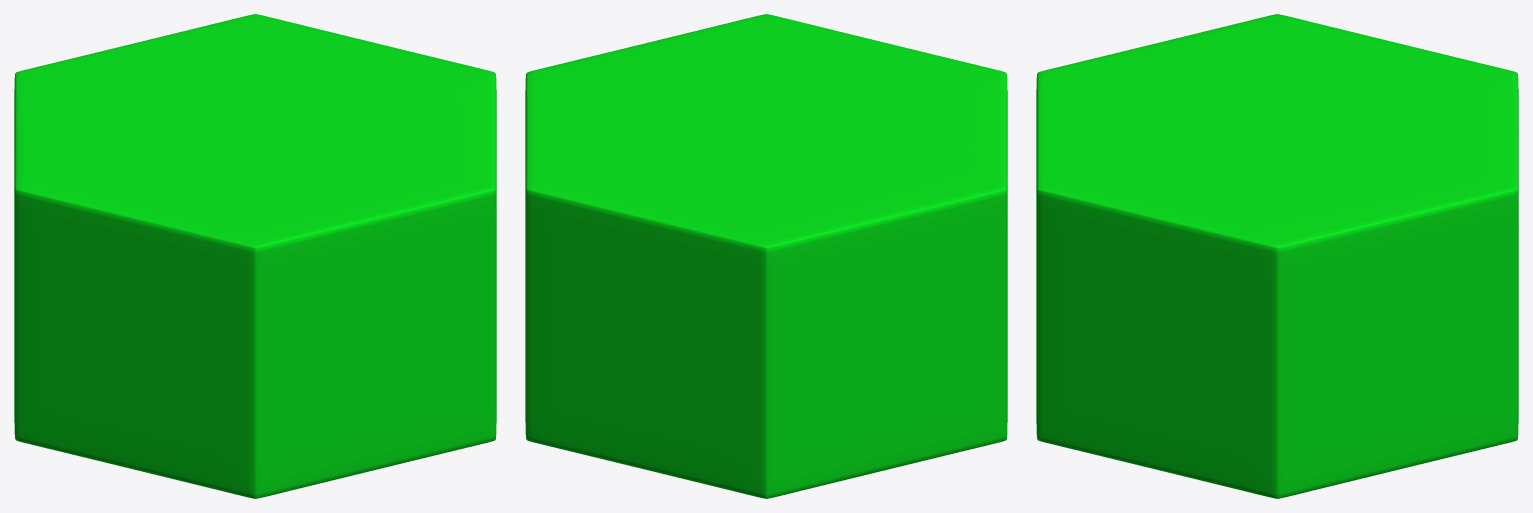
The model's file is GreenHexagon.glb.
The picture shows the model from 3 angles, left to right: view 1: azimuth 30°, elevation 25°; view 2: azimuth 150°, elevation 25°; view 3: azimuth 270°, elevation 25°; orthographic projection.
Parts seen in each view (by area): view 1: 20265_Hexagonal_prism_v1; view 2: 20265_Hexagonal_prism_v1; view 3: 20265_Hexagonal_prism_v1.
Part boxes in pixels (x1,y1,x2,y2): 20265_Hexagonal_prism_v1: (14, 14, 496, 498); 20265_Hexagonal_prism_v1: (525, 14, 1007, 498); 20265_Hexagonal_prism_v1: (1036, 14, 1518, 498).
Size of the model in its own units: 7.85 by 3.95 by 6.82.
